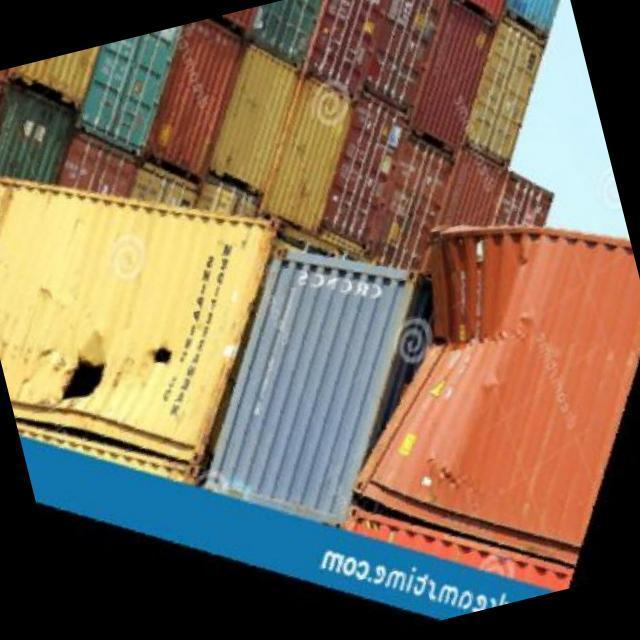hole: (58, 350, 116, 405), (150, 344, 176, 368)
